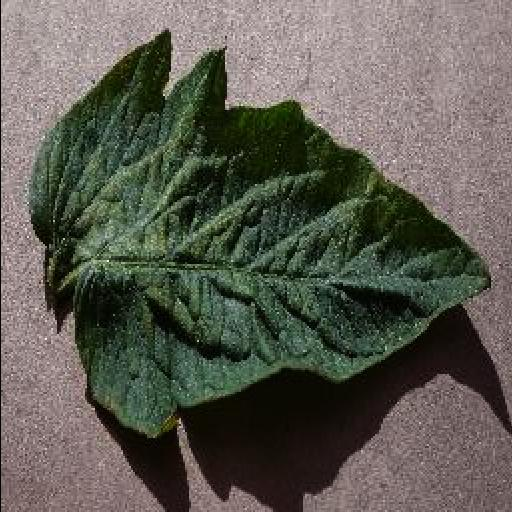disease_tomato: (26, 30, 494, 438)
